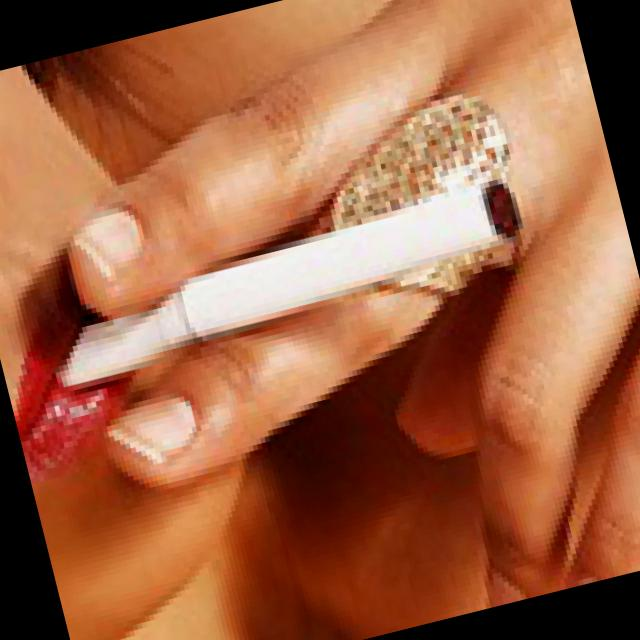cigarette: (49, 170, 534, 382)
